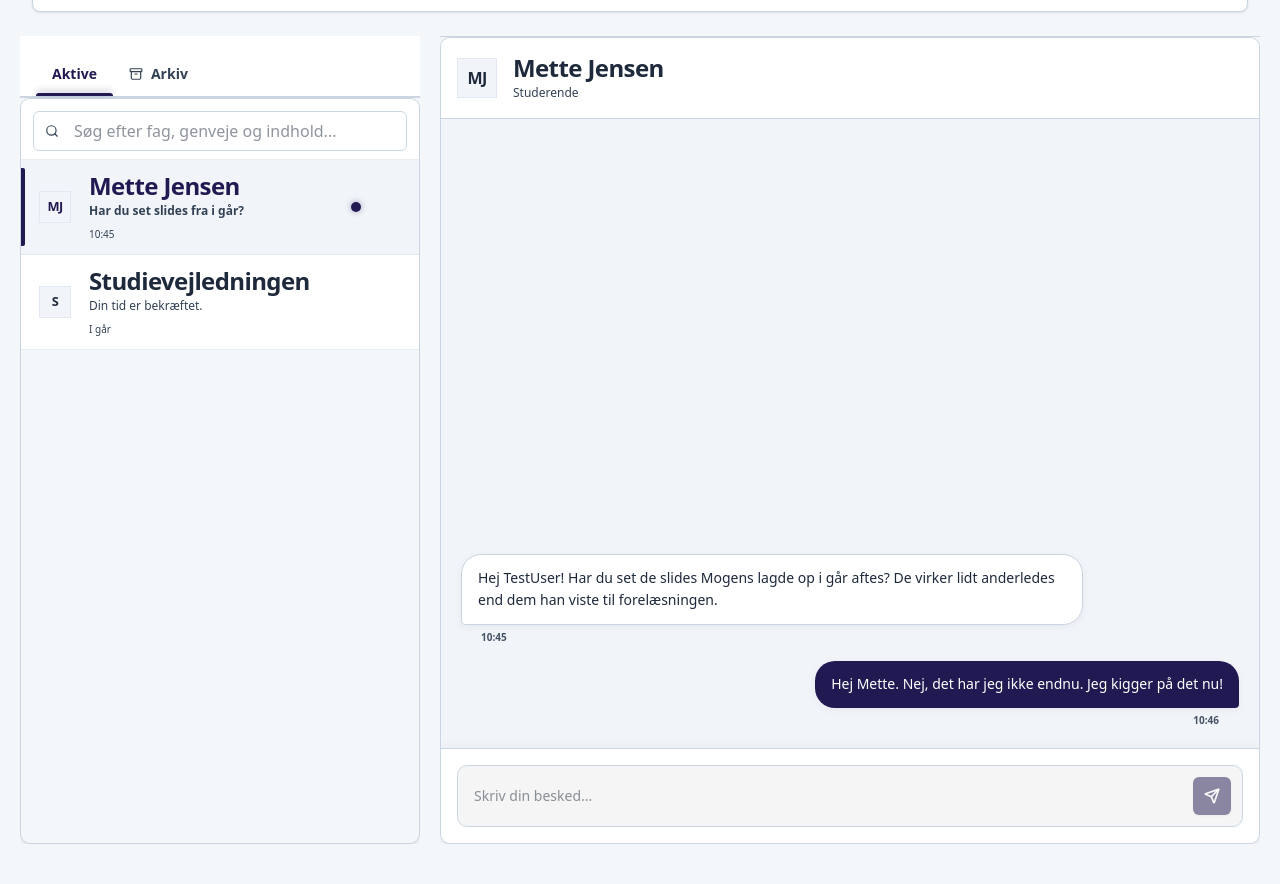
Test: Messages Page › sends message on Enter key press
(page scrolled)
Type "Enter test" into the text box with placeholder "Skriv din besked..." at coordinates (824, 796), box [466,774,1181,818]
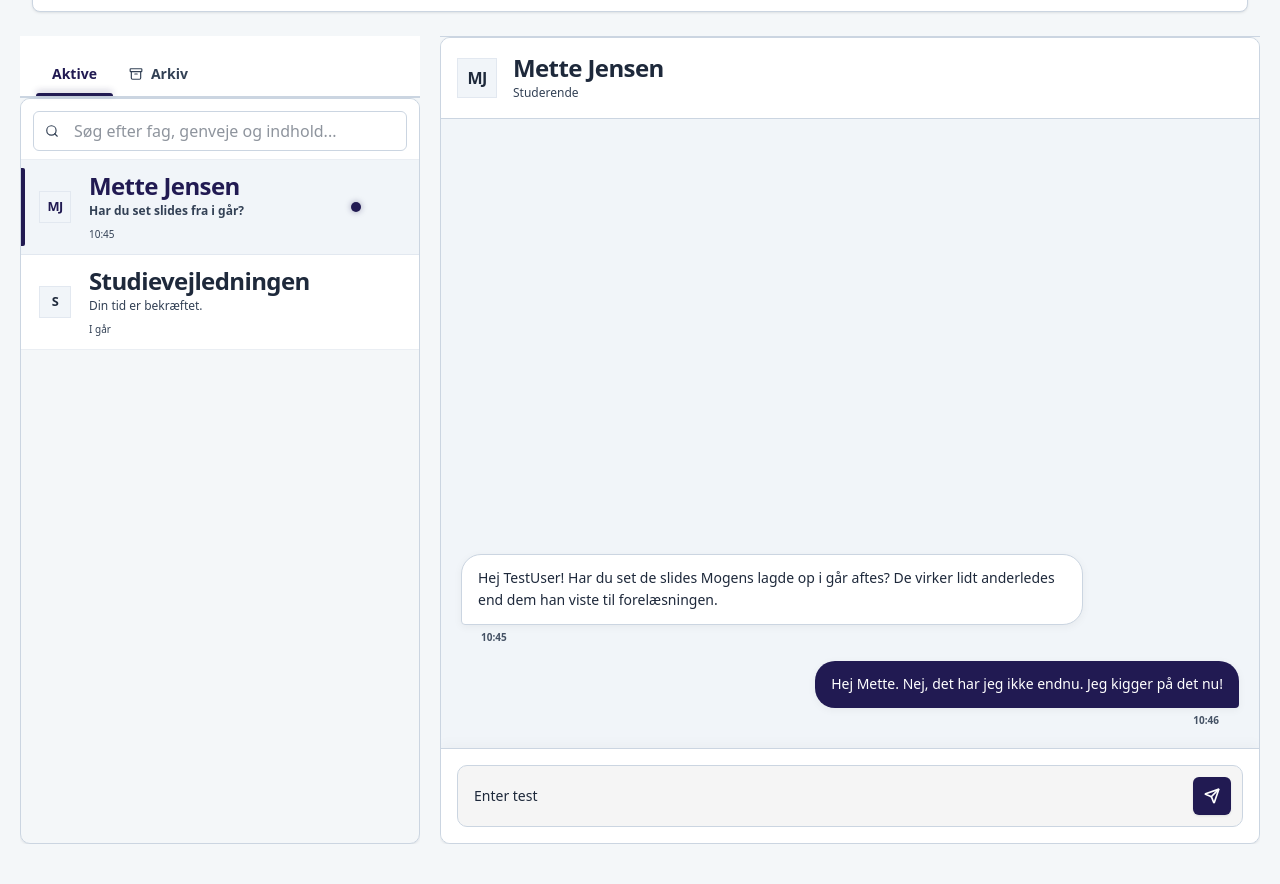
Press Enter in the text box, box [466,774,1181,818]
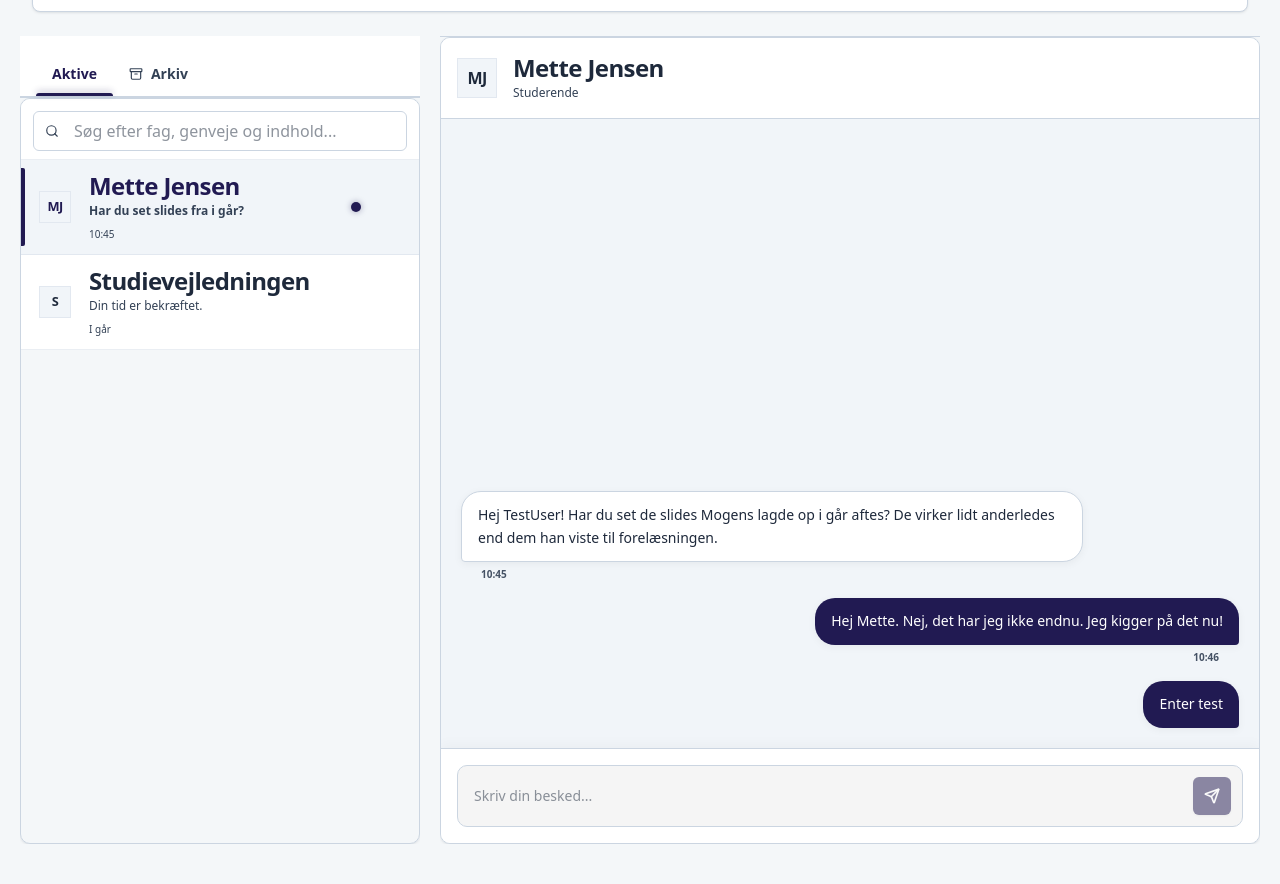
expect the text "Enter test" is shown: met, box [1160,693,1223,716]
